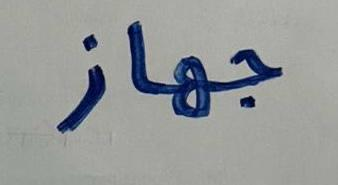alef: (118, 6, 155, 119)
hamza: (41, 19, 116, 154)
jeem: (159, 32, 216, 145)
kaf: (219, 21, 294, 126)
